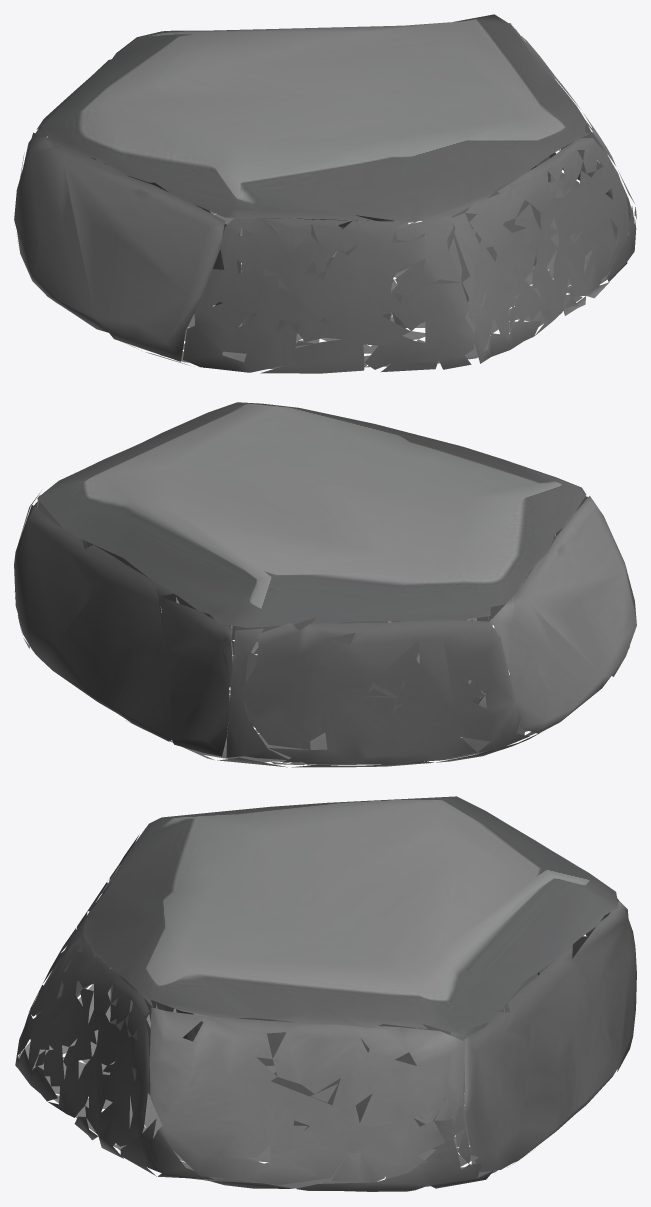
File: rock.glb
3 renders of one model, top to bottom at view 1: azimuth 30°, elevation 25°; view 2: azimuth 150°, elevation 25°; view 3: azimuth 270°, elevation 25°, orthographic. The views are drawn at different scales.
Size of the model in its own units: 0.1502 by 0.0501 by 0.1465.
Materials: 1 (1 with a texture image).
